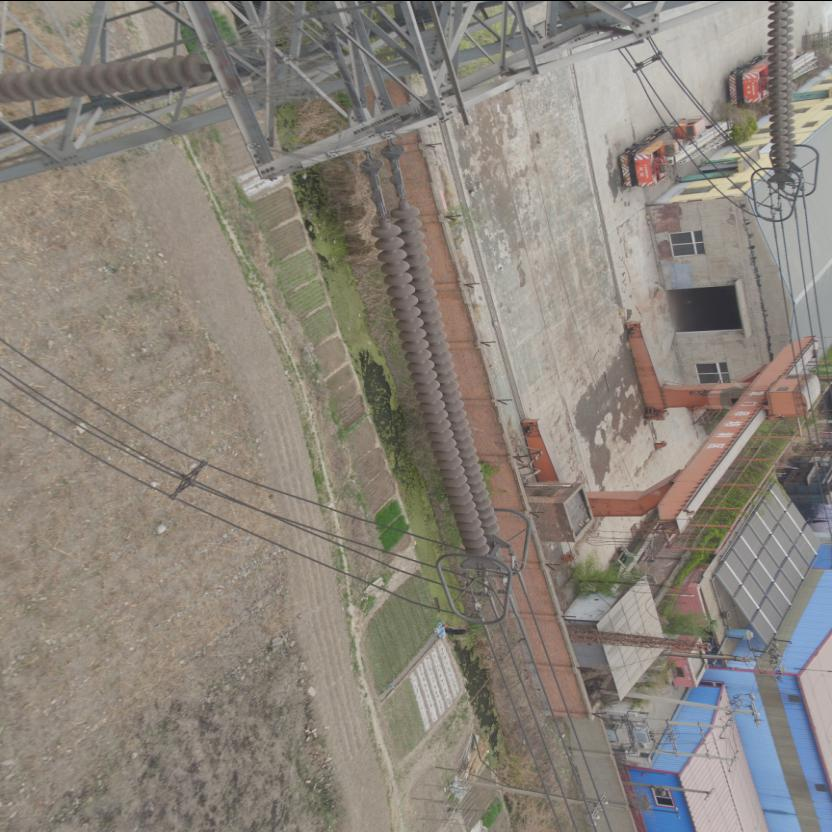insulator: (370, 182, 508, 562), (766, 1, 801, 177)
